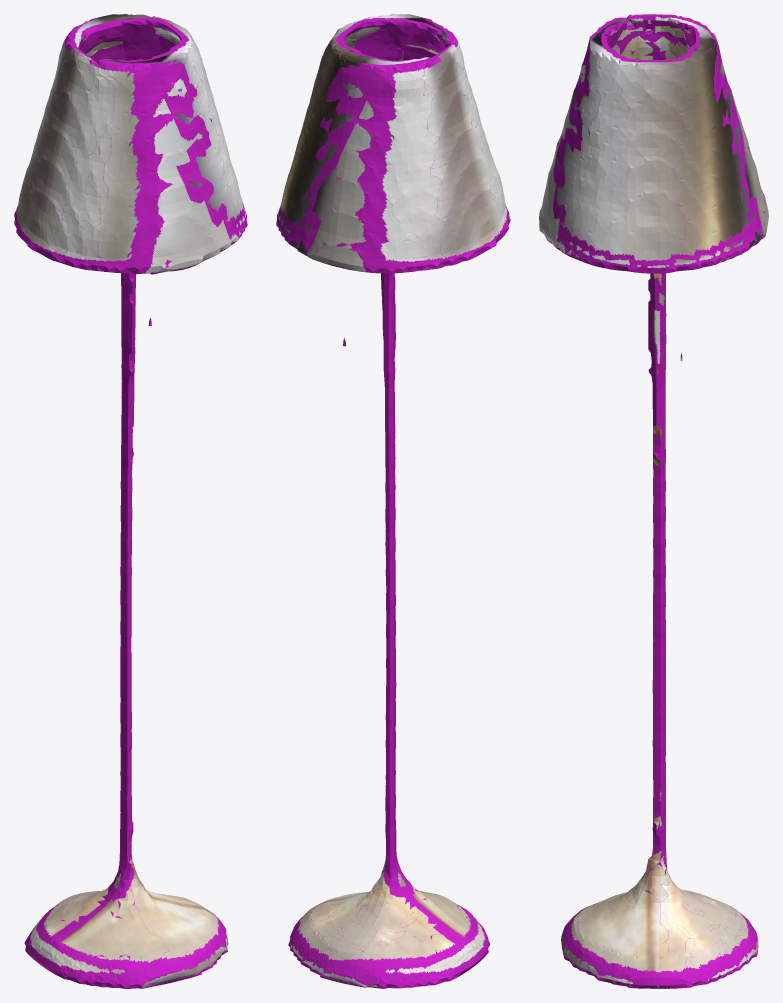
The picture shows the model from 3 angles, left to right: view 1: azimuth 30°, elevation 25°; view 2: azimuth 150°, elevation 25°; view 3: azimuth 270°, elevation 25°; orthographic projection.
Visible parts, largest first — view 1: mesh; view 2: mesh; view 3: mesh.
Boxes of the visible parts, x1,y1,x2,y2 form: mesh: (14,14,247,988); mesh: (276,14,510,988); mesh: (539,14,768,988).
Size of the model in its own units: 0.4555 by 1.96 by 0.4481.
Materials: 1 (1 with a texture image).
